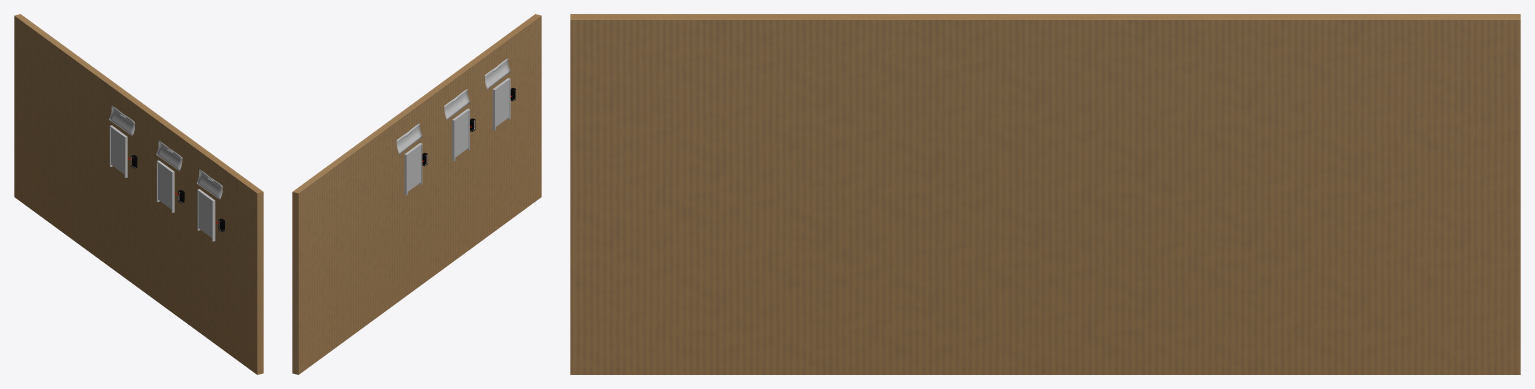
The model's file is lvl_2_3_doors.fbx.
3 renders of one model, left to right at view 1: azimuth 30°, elevation 25°; view 2: azimuth 150°, elevation 25°; view 3: azimuth 270°, elevation 25°, orthographic. The views are drawn at different scales.
Visible parts, largest first — view 1: Cube__2_, Door1_1, Door1, Door1_2, ExitSign_1, ExitSign_2, ExitSign; view 2: Cube__2_, Door1, Door1_1, Door1_2, ExitSign, ExitSign_2, ExitSign_1; view 3: Cube__2_.
Part boxes in pixels (x1,y1,x2,y2): Cube__2_: [14, 14, 263, 374]; Door1_1: [158, 163, 171, 209]; Door1: [198, 192, 211, 237]; Door1_2: [111, 128, 124, 173]; ExitSign_1: [156, 140, 182, 171]; ExitSign_2: [109, 105, 134, 136]; ExitSign: [197, 169, 222, 199]; Cube__2_: [292, 14, 541, 374]; Door1: [495, 81, 509, 126]; Door1_1: [455, 112, 468, 157]; Door1_2: [407, 146, 420, 191]; ExitSign: [484, 58, 510, 89]; ExitSign_2: [396, 123, 422, 154]; ExitSign_1: [444, 89, 469, 119]; Cube__2_: [570, 14, 1520, 374].
Size of the model in its own units: 128 by 1705 by 4138.
